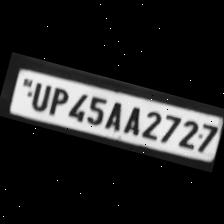2: (173, 114, 202, 150), (136, 106, 164, 142)
4: (63, 86, 90, 122)
5: (82, 90, 110, 127)
7: (192, 118, 220, 154), (156, 110, 182, 146)
A: (119, 100, 146, 135), (102, 96, 127, 131)
P: (44, 82, 71, 117)
U: (26, 78, 54, 112)
